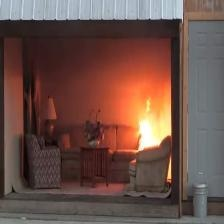fire: (138, 91, 167, 131)
